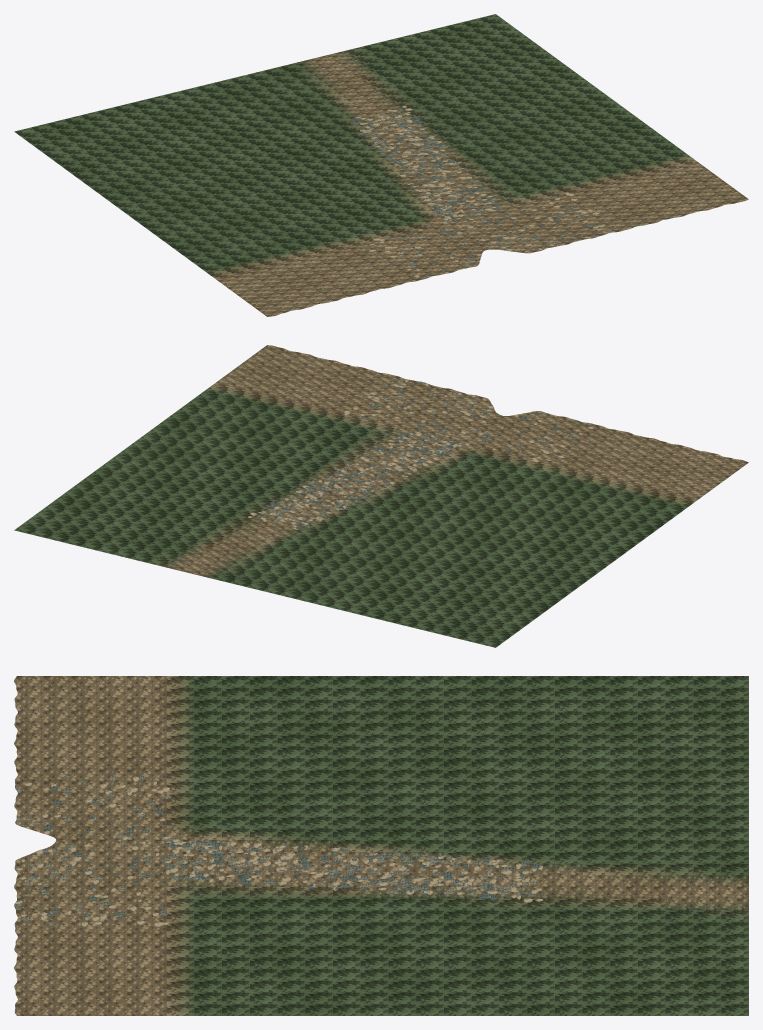
The model's file is village_ground.glb.
3 renders of one model, top to bottom at view 1: azimuth 30°, elevation 25°; view 2: azimuth 150°, elevation 25°; view 3: azimuth 270°, elevation 25°, orthographic. The views are drawn at different scales.
Visible parts, largest first — view 1: village_ground; view 2: village_ground; view 3: village_ground.
Part boxes in pixels (bbox=[...]): village_ground: bbox=[14, 14, 748, 316]; village_ground: bbox=[14, 345, 748, 647]; village_ground: bbox=[14, 676, 748, 1015].
Bounding box in the file's own units: 58 × 0.021 × 53.01.
1 material, 1 textured.
